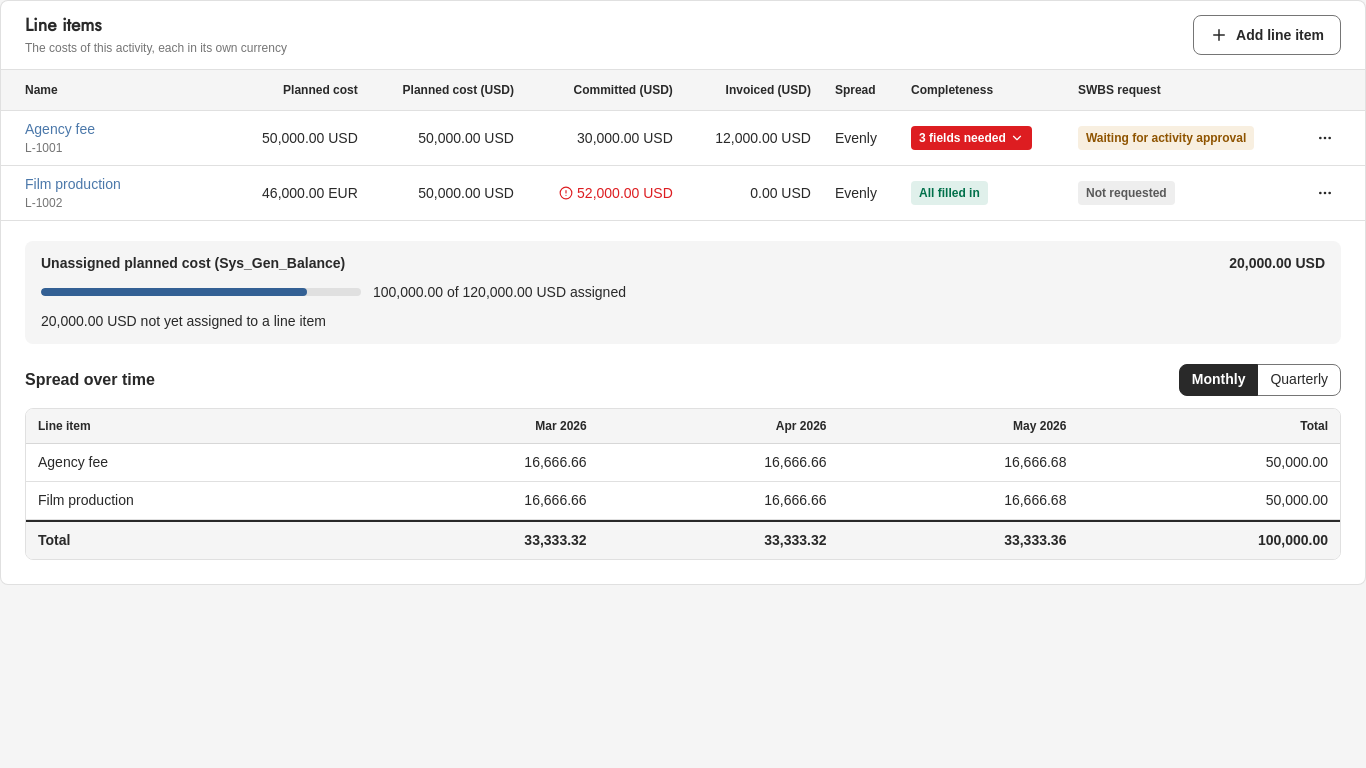
Scenario: LineItemsSection, row actions (US1, US4) › deletes from the row and offers Undo, staying on the activity (FR-030)
Click the button named "Actions for Agency fee" at (1325,138), box [1309, 122, 1341, 154]
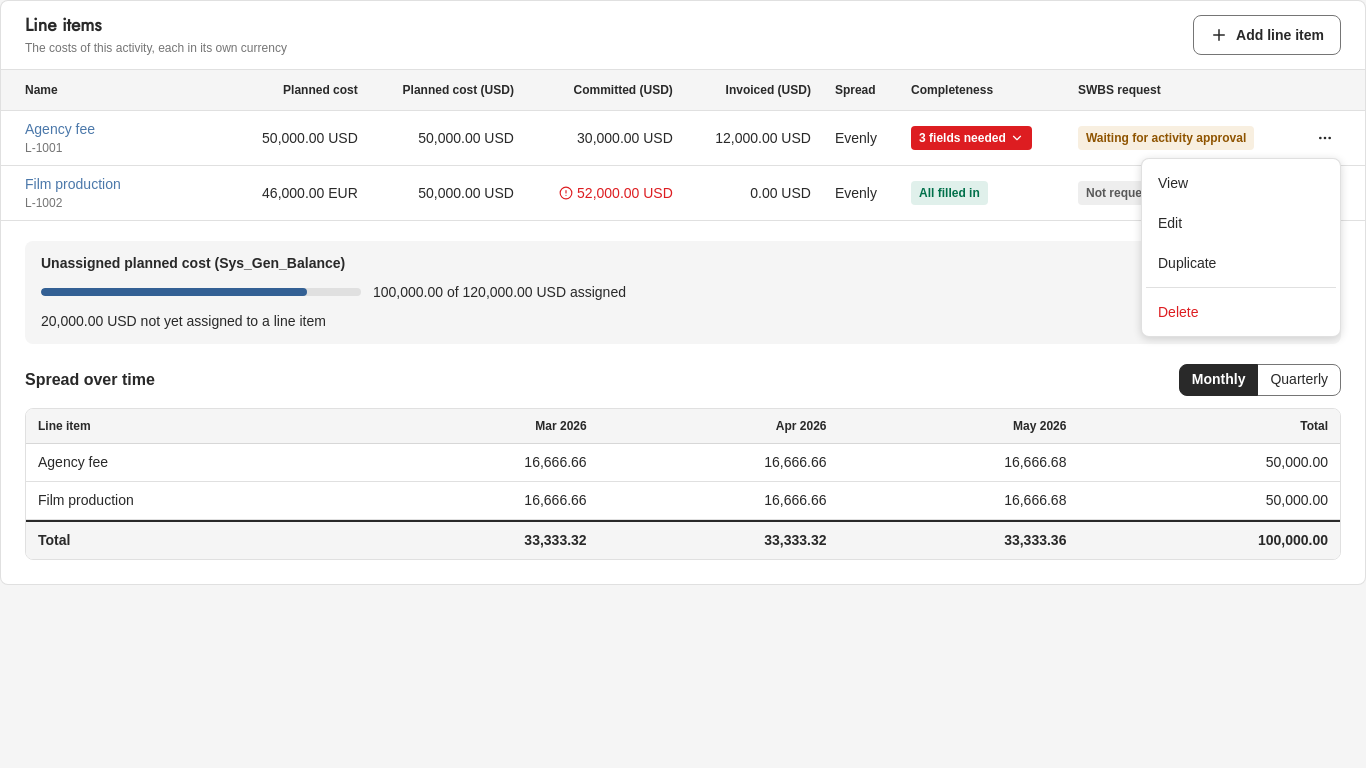
Click the menu item "Delete" at (1178,312), box [1158, 304, 1198, 320]
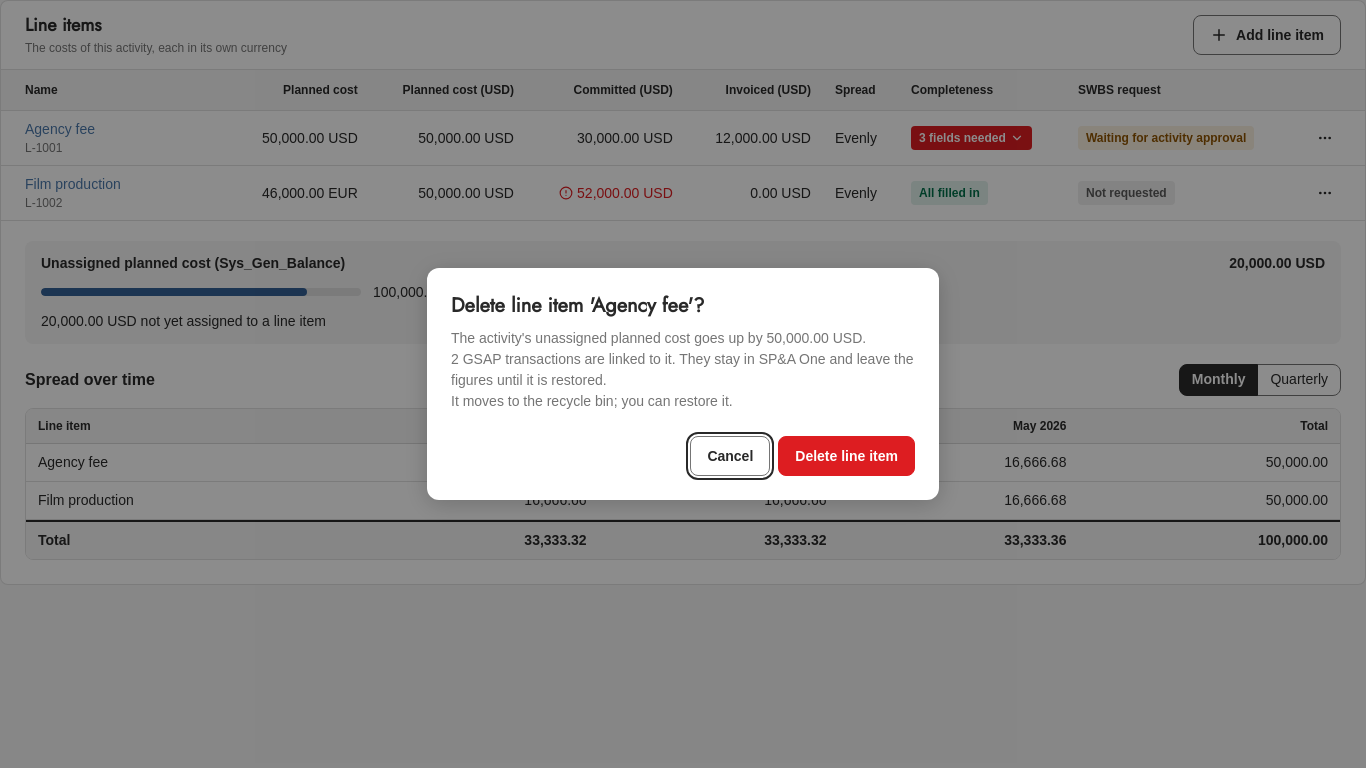
Expected: the text "2 GSAP transactions are linked to it." is shown, [451, 351, 914, 388]
Click the button "Delete line item" at (847,456), box [778, 436, 915, 476]
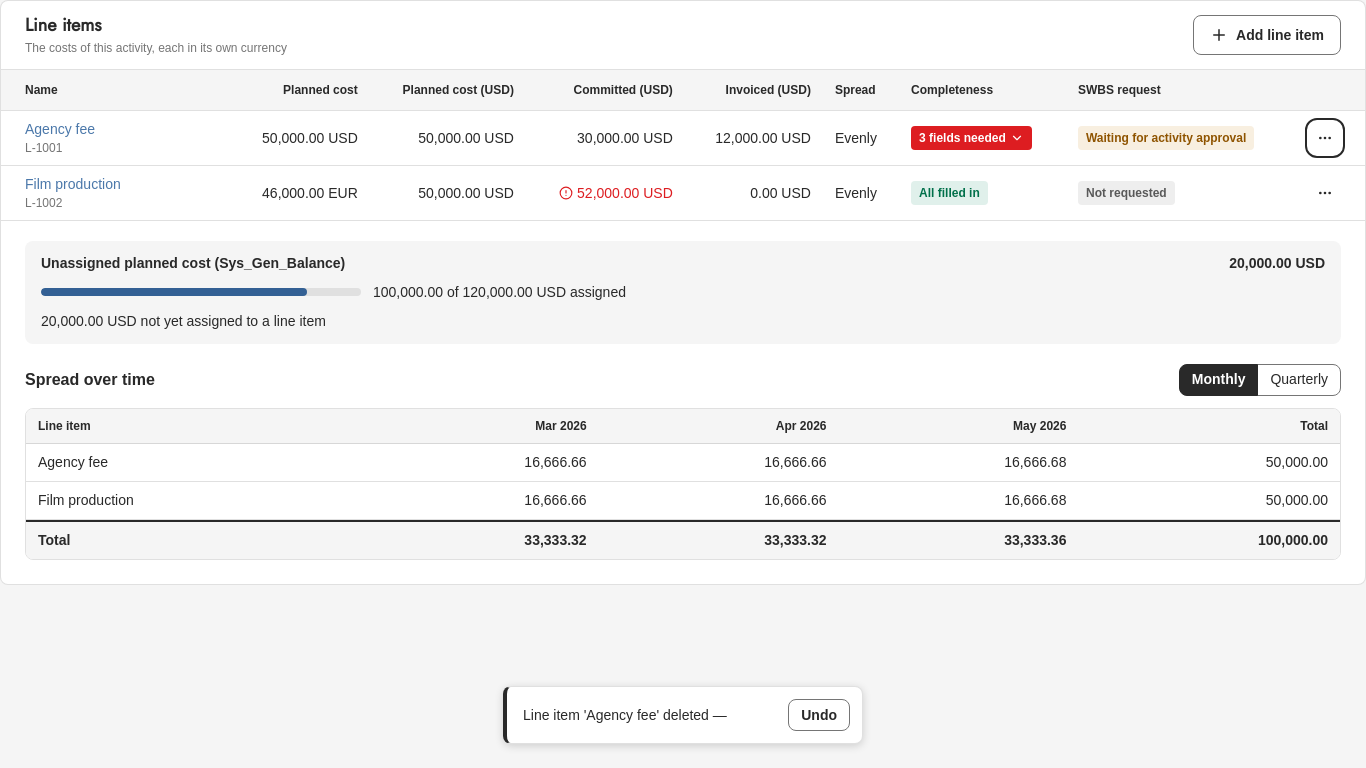
Expected: the text "Line item 'Agency fee' deleted" is shown, [523, 706, 713, 722]
